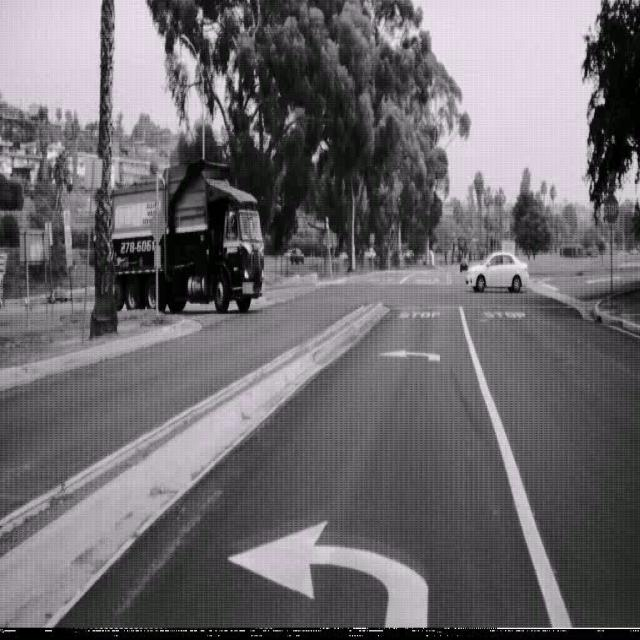stop: (602, 192, 618, 225)
